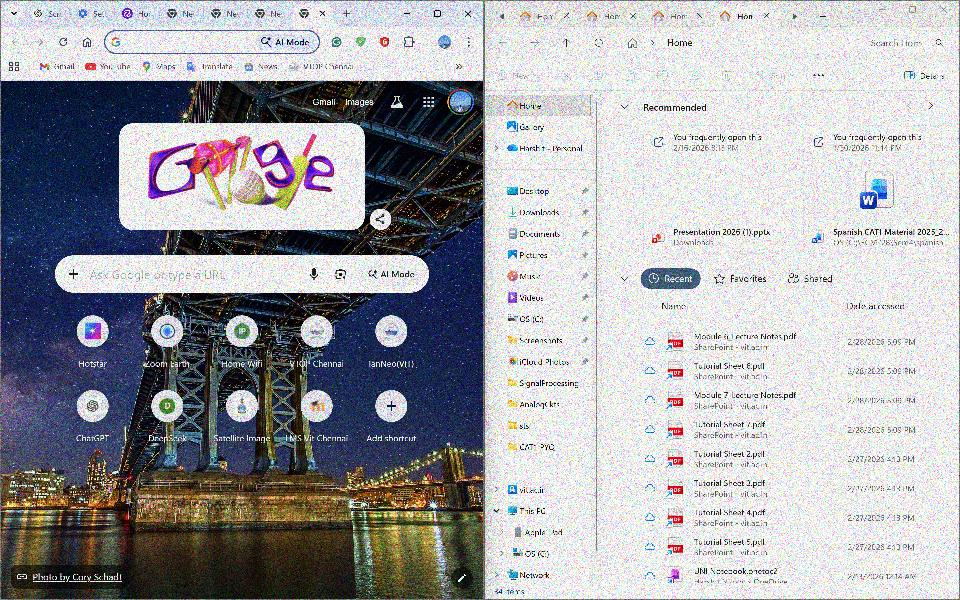close_button: (456, 4, 481, 24), (933, 3, 955, 19)
maximize_button: (902, 2, 925, 20), (428, 4, 448, 24)
minimize_button: (871, 2, 896, 21), (397, 4, 417, 23)
